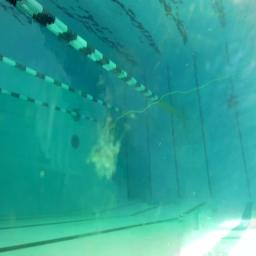Full: (226, 99, 240, 108)
